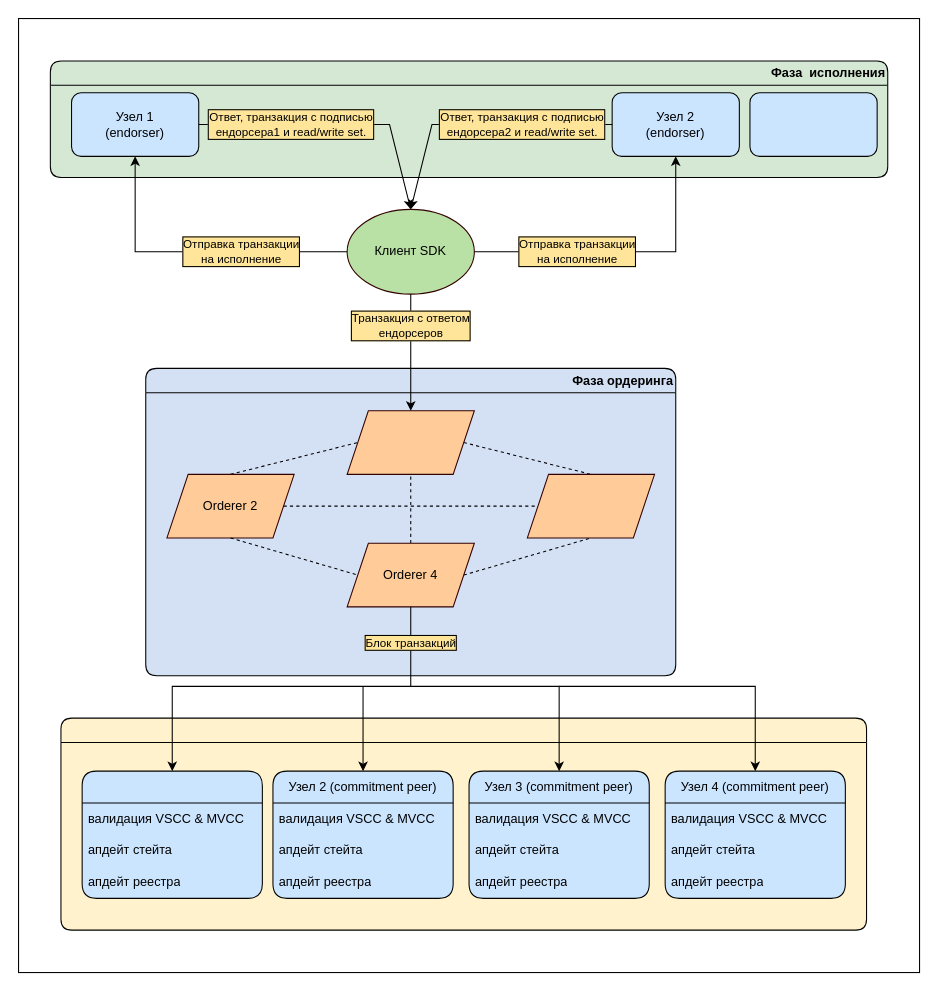
Image size: 938x991. Some labels were removed from this diagram. Here are the shapes that lost their labels. From the top down, the box of each, then its label:
(749, 92, 877, 156): Узел 3 (endorser)
(346, 410, 474, 474): Orderer 1
(526, 473, 655, 538): Orderer 3
(81, 770, 262, 898): Узел 1 (commitment peer)
(60, 717, 867, 930): Фаза валидации
